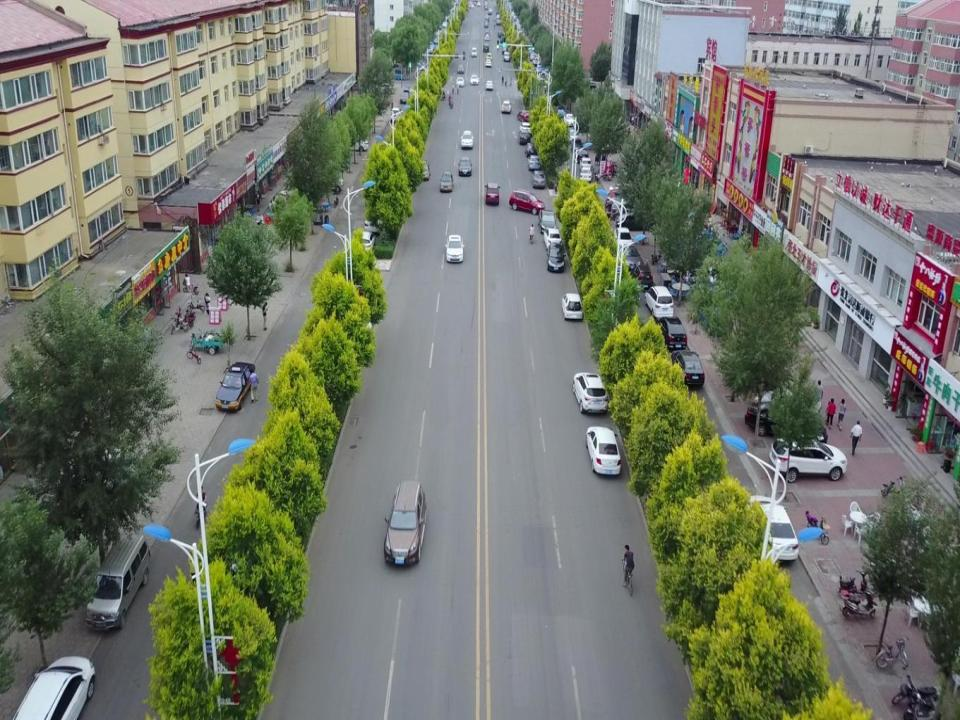car: (13, 655, 95, 720), (382, 477, 427, 565), (746, 493, 799, 564), (745, 398, 828, 442), (768, 438, 848, 482), (750, 385, 822, 423), (583, 426, 623, 478), (215, 360, 255, 412), (572, 371, 608, 415), (670, 350, 706, 387), (605, 195, 661, 216), (606, 188, 660, 207), (657, 315, 687, 349), (610, 180, 660, 200), (609, 200, 656, 221), (507, 190, 545, 214), (616, 210, 657, 230), (560, 291, 584, 321), (332, 132, 368, 152), (352, 228, 376, 256), (630, 264, 653, 292), (443, 234, 464, 264), (546, 242, 565, 271), (536, 209, 557, 233), (620, 245, 641, 268), (362, 207, 382, 231), (542, 227, 563, 249), (614, 226, 633, 247), (413, 159, 430, 181), (484, 180, 499, 204), (438, 170, 454, 192), (456, 156, 472, 176), (529, 168, 545, 188), (372, 81, 396, 94), (578, 166, 594, 184), (815, 379, 823, 414), (460, 130, 474, 148), (517, 129, 531, 146), (528, 154, 542, 170), (516, 110, 534, 122), (563, 112, 576, 127), (390, 106, 402, 122), (579, 156, 592, 170), (570, 138, 583, 152), (525, 141, 537, 155), (519, 122, 531, 136), (824, 400, 831, 424), (576, 149, 588, 163), (500, 100, 512, 112), (399, 88, 409, 102), (556, 104, 566, 116), (469, 74, 479, 85), (484, 79, 494, 89), (456, 76, 464, 87), (456, 63, 464, 72), (484, 58, 492, 67), (502, 52, 510, 61), (482, 43, 489, 52), (502, 45, 508, 54), (486, 52, 492, 59)
van: (83, 530, 150, 630), (300, 169, 344, 193), (644, 285, 674, 319), (568, 128, 580, 142), (471, 46, 477, 57)
